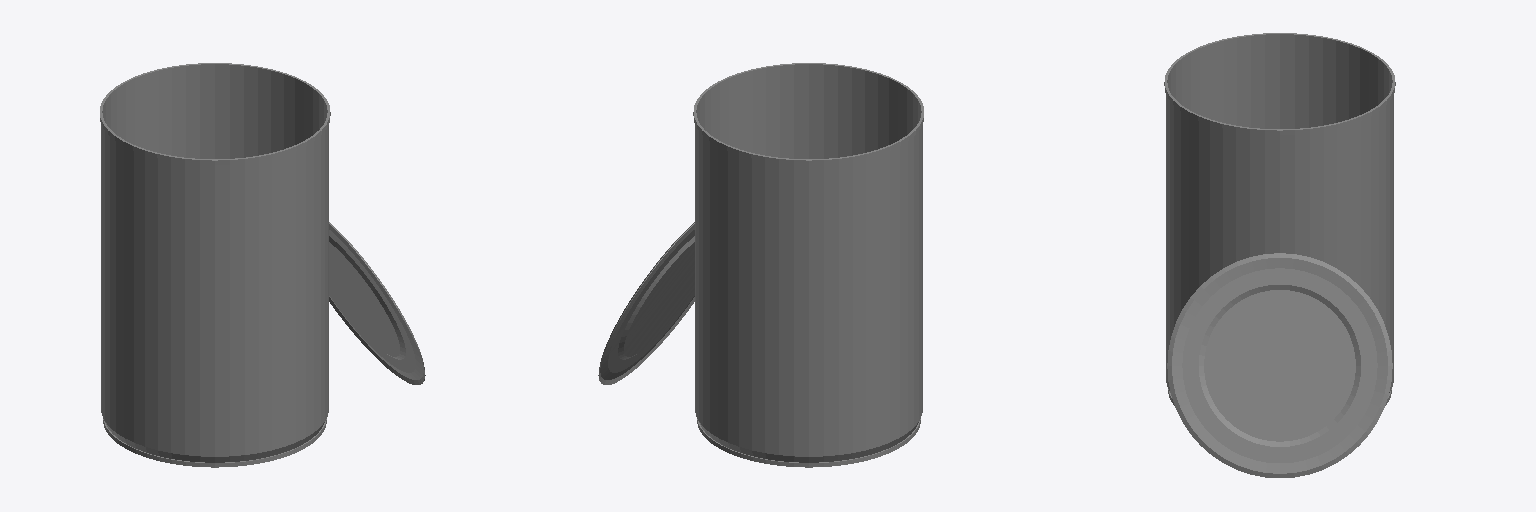
Rendered from TinCan4Open.obj.
The picture shows the model from 3 angles: view 1: azimuth 30°, elevation 25°; view 2: azimuth 150°, elevation 25°; view 3: azimuth 270°, elevation 25°; orthographic projection.
Visible parts, largest first — view 1: TinCan4Open, TinCan4Top; view 2: TinCan4Open, TinCan4Top; view 3: TinCan4Open, TinCan4Top.
Part boxes in pixels (left/top/right/bottom): TinCan4Open: left=100, top=63, right=330, bottom=467; TinCan4Top: left=329, top=222, right=425, bottom=384; TinCan4Open: left=693, top=63, right=923, bottom=467; TinCan4Top: left=598, top=222, right=694, bottom=384; TinCan4Open: left=1164, top=33, right=1395, bottom=405; TinCan4Top: left=1167, top=253, right=1392, bottom=477.
Size of the model in its own units: 4.1 by 4.29 by 2.91.